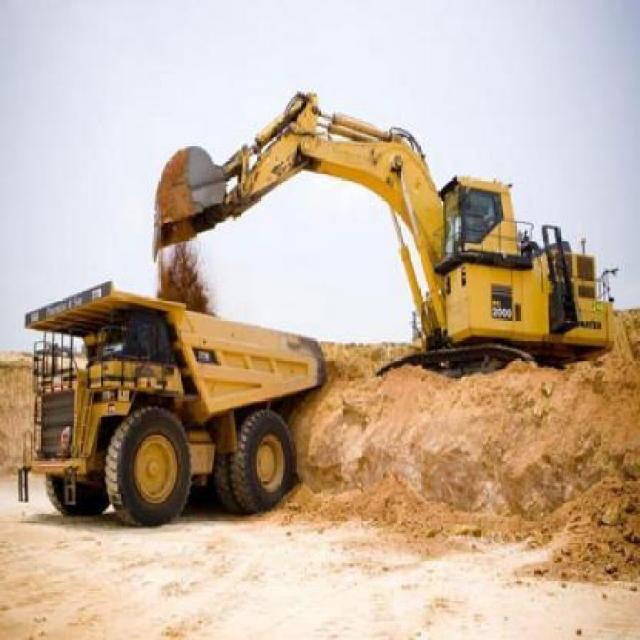Dump Truck: (16, 280, 324, 530)
Excavator: (150, 87, 616, 376)
